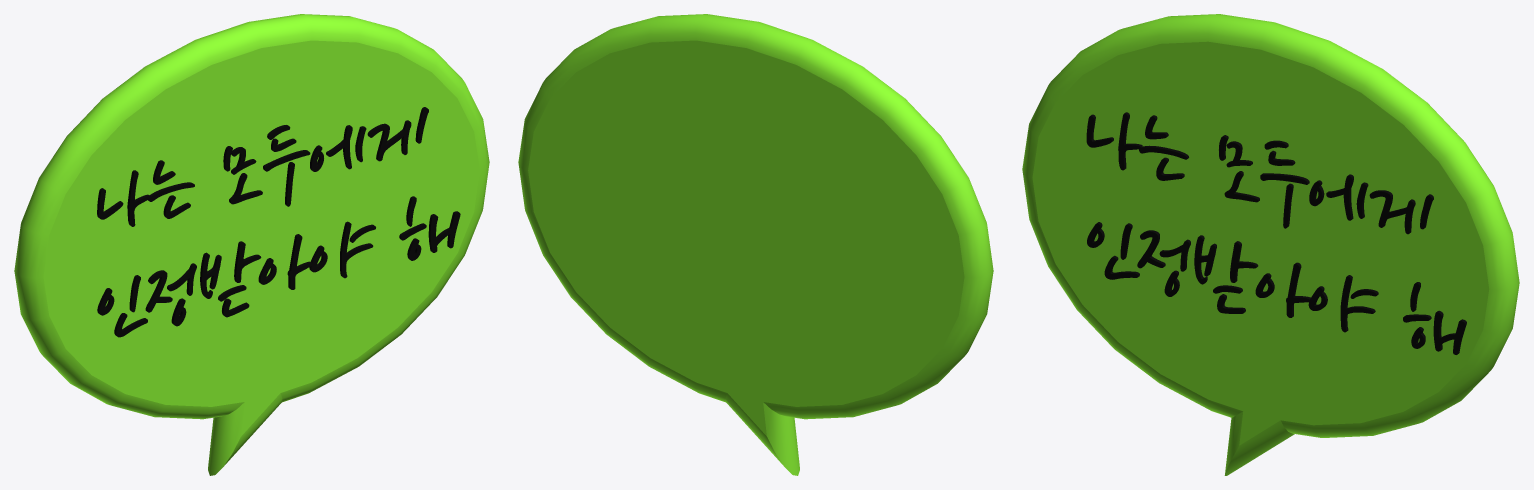
The model's file is #10_Obj_SpeechBalloon_02.FBX.
3 views of the same model, side by side, from view 1: azimuth 30°, elevation 25°; view 2: azimuth 150°, elevation 25°; view 3: azimuth 330°, elevation 25° (orthographic). The views are drawn at different scales.
Parts seen in each view (by area): view 1: #10_Obj_SpeechBalloon_02, Text012; view 2: #10_Obj_SpeechBalloon_02; view 3: #10_Obj_SpeechBalloon_02, Text012.
Boxes of the visible parts, left/top/right/bottom form: #10_Obj_SpeechBalloon_02: left=14, top=14, right=489, bottom=475; Text012: left=97, top=107, right=460, bottom=337; #10_Obj_SpeechBalloon_02: left=518, top=14, right=993, bottom=475; #10_Obj_SpeechBalloon_02: left=1022, top=14, right=1519, bottom=475; Text012: left=1086, top=112, right=1466, bottom=354.
Size of the model in its own units: 1401 by 110 by 1259.
